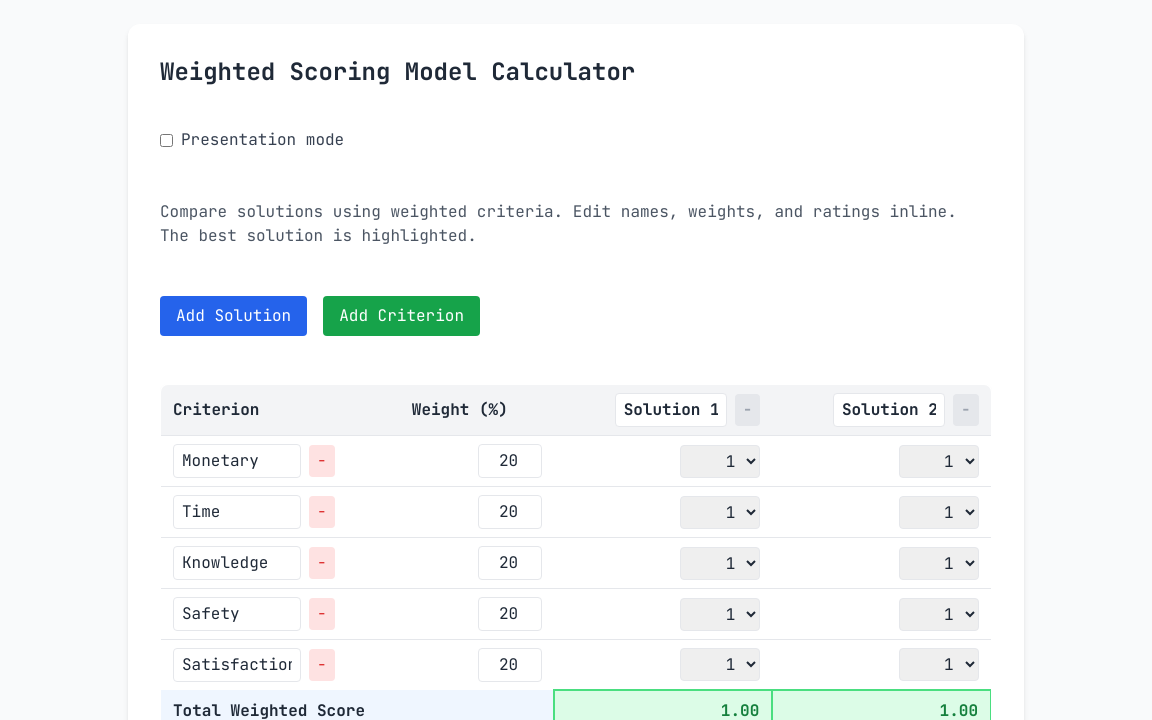
WeightedScoringPanel user interactions › can edit criterion name
The width and height of the screenshot is (1152, 720).
Step 1. Replace the text in the 3rd field showing "Monetary" with "Cost" → (237, 461), box x1=173 y1=444 x2=301 y2=478
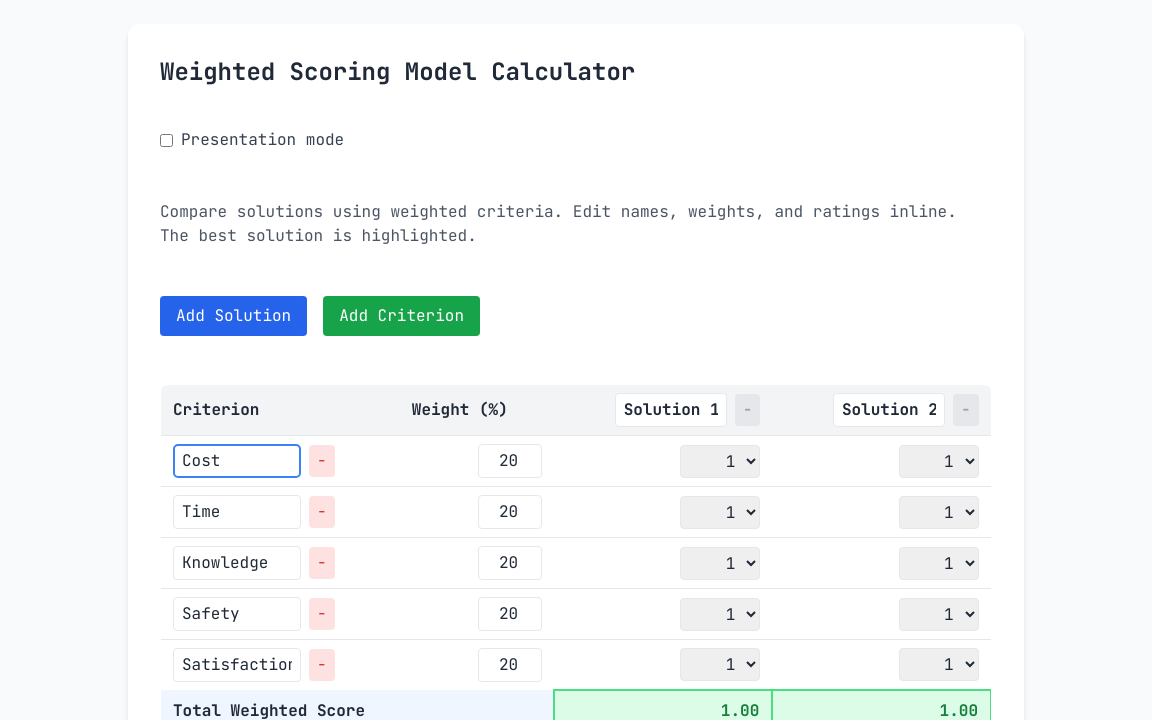
Result: the cell with test id "criterion-Cost" is shown at x1=160 y1=436 x2=400 y2=486
